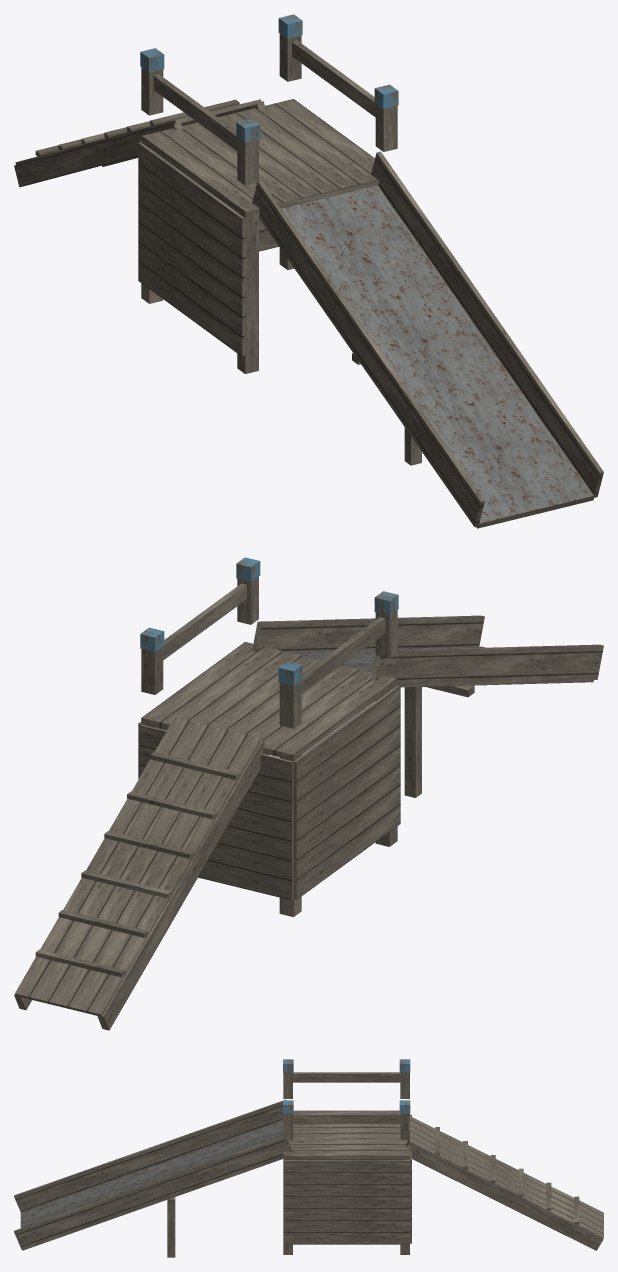
File: playground_ice_slide_web.glb
3 views of the same model, one above another, from view 1: azimuth 30°, elevation 25°; view 2: azimuth 150°, elevation 25°; view 3: azimuth 270°, elevation 25° (orthographic). The views are drawn at different scales.
Visible parts, largest first — view 1: IceSlide_Mesh; view 2: IceSlide_Mesh; view 3: IceSlide_Mesh.
Part boxes in pixels (x1,y1,x2,y2): IceSlide_Mesh: [14, 14, 603, 528]; IceSlide_Mesh: [14, 557, 603, 1030]; IceSlide_Mesh: [14, 1059, 603, 1257].
Bounding box in the file's own units: 1.15 × 1.97 × 6.06.
Materials: 3 (3 with a texture image).
